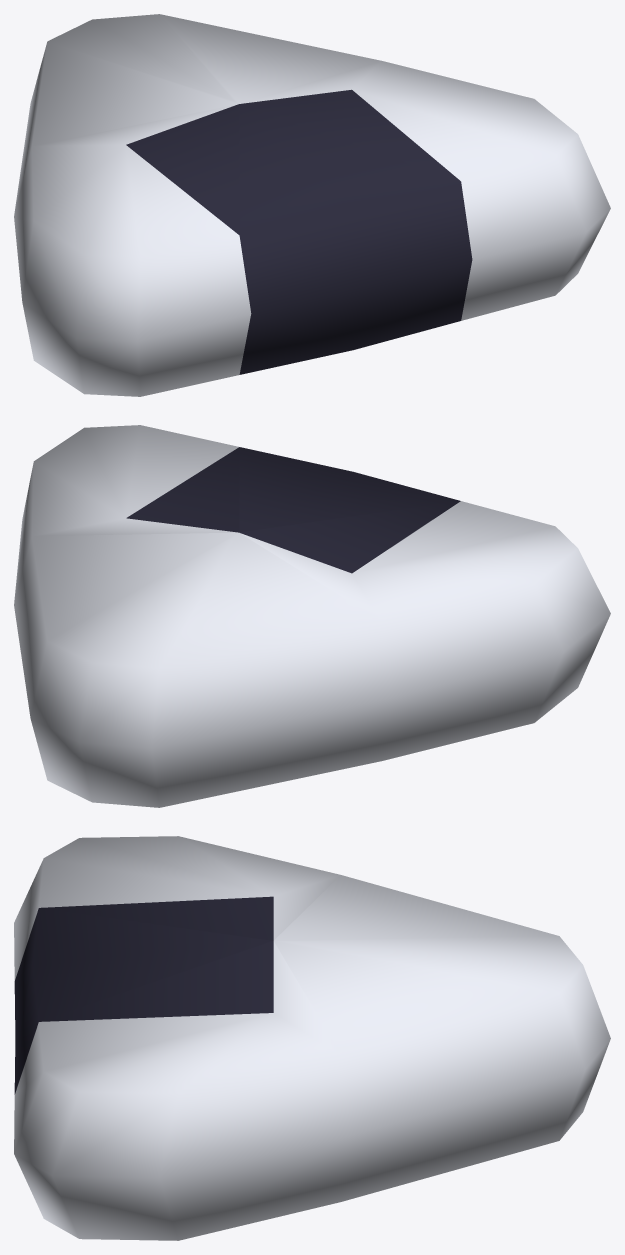
File: Onigiri.fbx
3 views of the same model, one above another, from view 1: azimuth 30°, elevation 25°; view 2: azimuth 150°, elevation 25°; view 3: azimuth 270°, elevation 25° (orthographic). The views are drawn at different scales.
Parts seen in each view (by area): view 1: Onigiri; view 2: Onigiri; view 3: Onigiri.
Boxes of the visible parts, x1=… form: Onigiri: x1=14, y1=14, x2=610, y2=396; Onigiri: x1=14, y1=425, x2=610, y2=807; Onigiri: x1=14, y1=836, x2=610, y2=1240.
Bounding box in the file's own units: 187 × 61.27 × 170.
